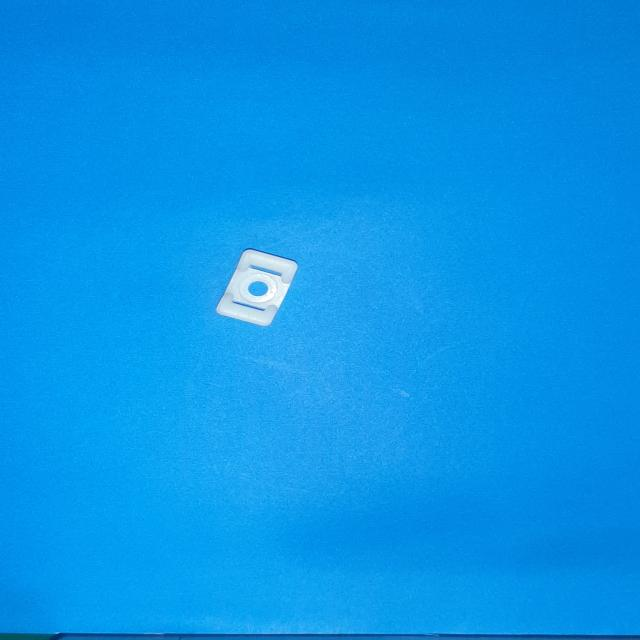true: (217, 249, 298, 326)
true_center: (248, 281, 268, 296)
